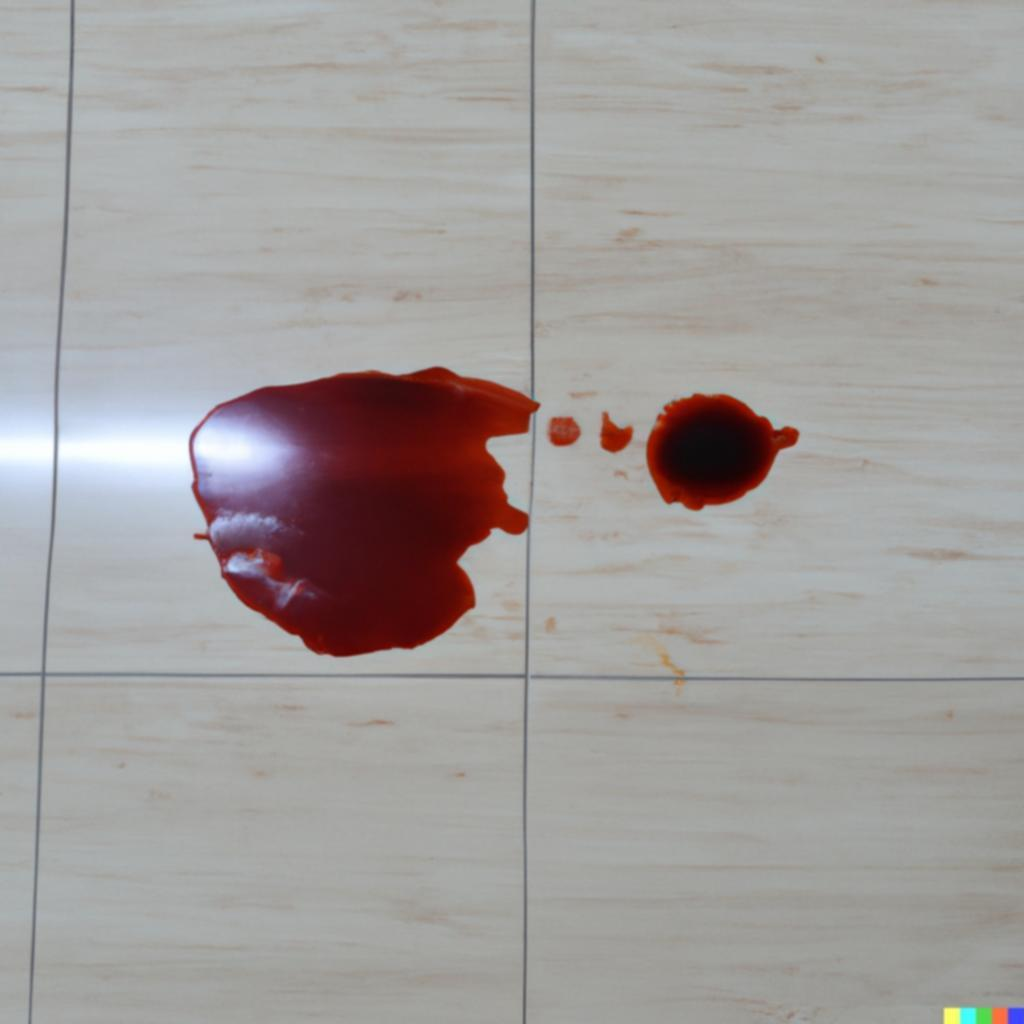Bloodstain-Detection: (210, 422, 486, 646), (662, 392, 744, 494)
